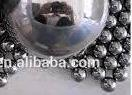ironball: (6, 0, 116, 58), (71, 66, 88, 83), (101, 75, 116, 94), (91, 43, 110, 58), (113, 65, 129, 82), (103, 55, 118, 71), (98, 29, 113, 44), (116, 50, 130, 66), (113, 24, 127, 40), (92, 66, 106, 81), (3, 59, 17, 74), (105, 15, 118, 29), (119, 10, 131, 25), (108, 0, 123, 12), (111, 41, 122, 57), (13, 49, 29, 60), (0, 70, 10, 86), (2, 40, 16, 51), (120, 0, 132, 11), (0, 24, 5, 41)
